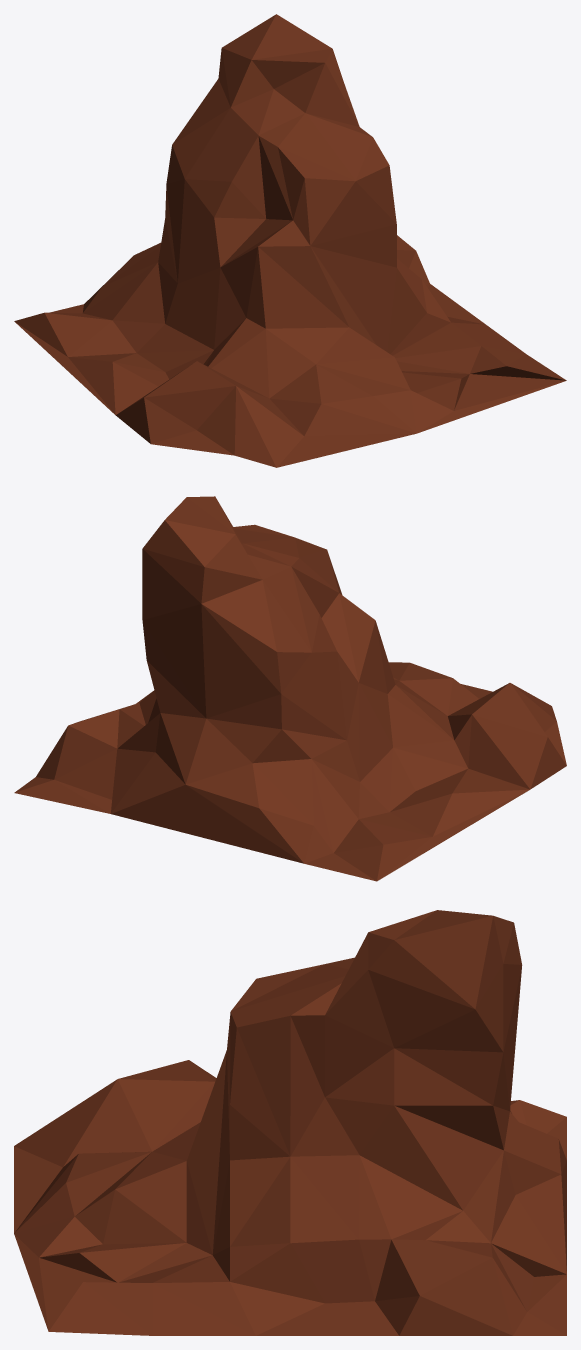
File: 05 Mountain_1.FBX.glb
3 renders of one model, top to bottom at view 1: azimuth 30°, elevation 25°; view 2: azimuth 150°, elevation 25°; view 3: azimuth 270°, elevation 25°, orthographic. The views are drawn at different scales.
Visible parts, largest first — view 1: Mountain_desert_001.2; view 2: Mountain_desert_001.2; view 3: Mountain_desert_001.2.
Part boxes in pixels (x1,y1,x2,y2): Mountain_desert_001.2: (14, 14, 566, 467); Mountain_desert_001.2: (14, 496, 566, 881); Mountain_desert_001.2: (14, 910, 566, 1335).
Size of the model in its own units: 5152 by 3570 by 5152.
